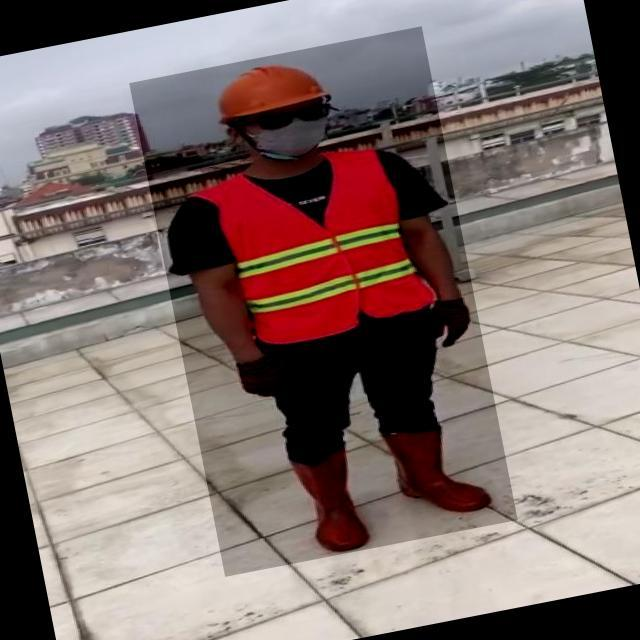Gloves: (234, 350, 309, 407), (425, 294, 477, 348)
Helmet: (203, 48, 340, 131)
Human: (129, 26, 518, 577)
Safety Boot: (380, 412, 493, 525), (288, 445, 369, 558)
Safety Vest: (213, 144, 431, 349)
